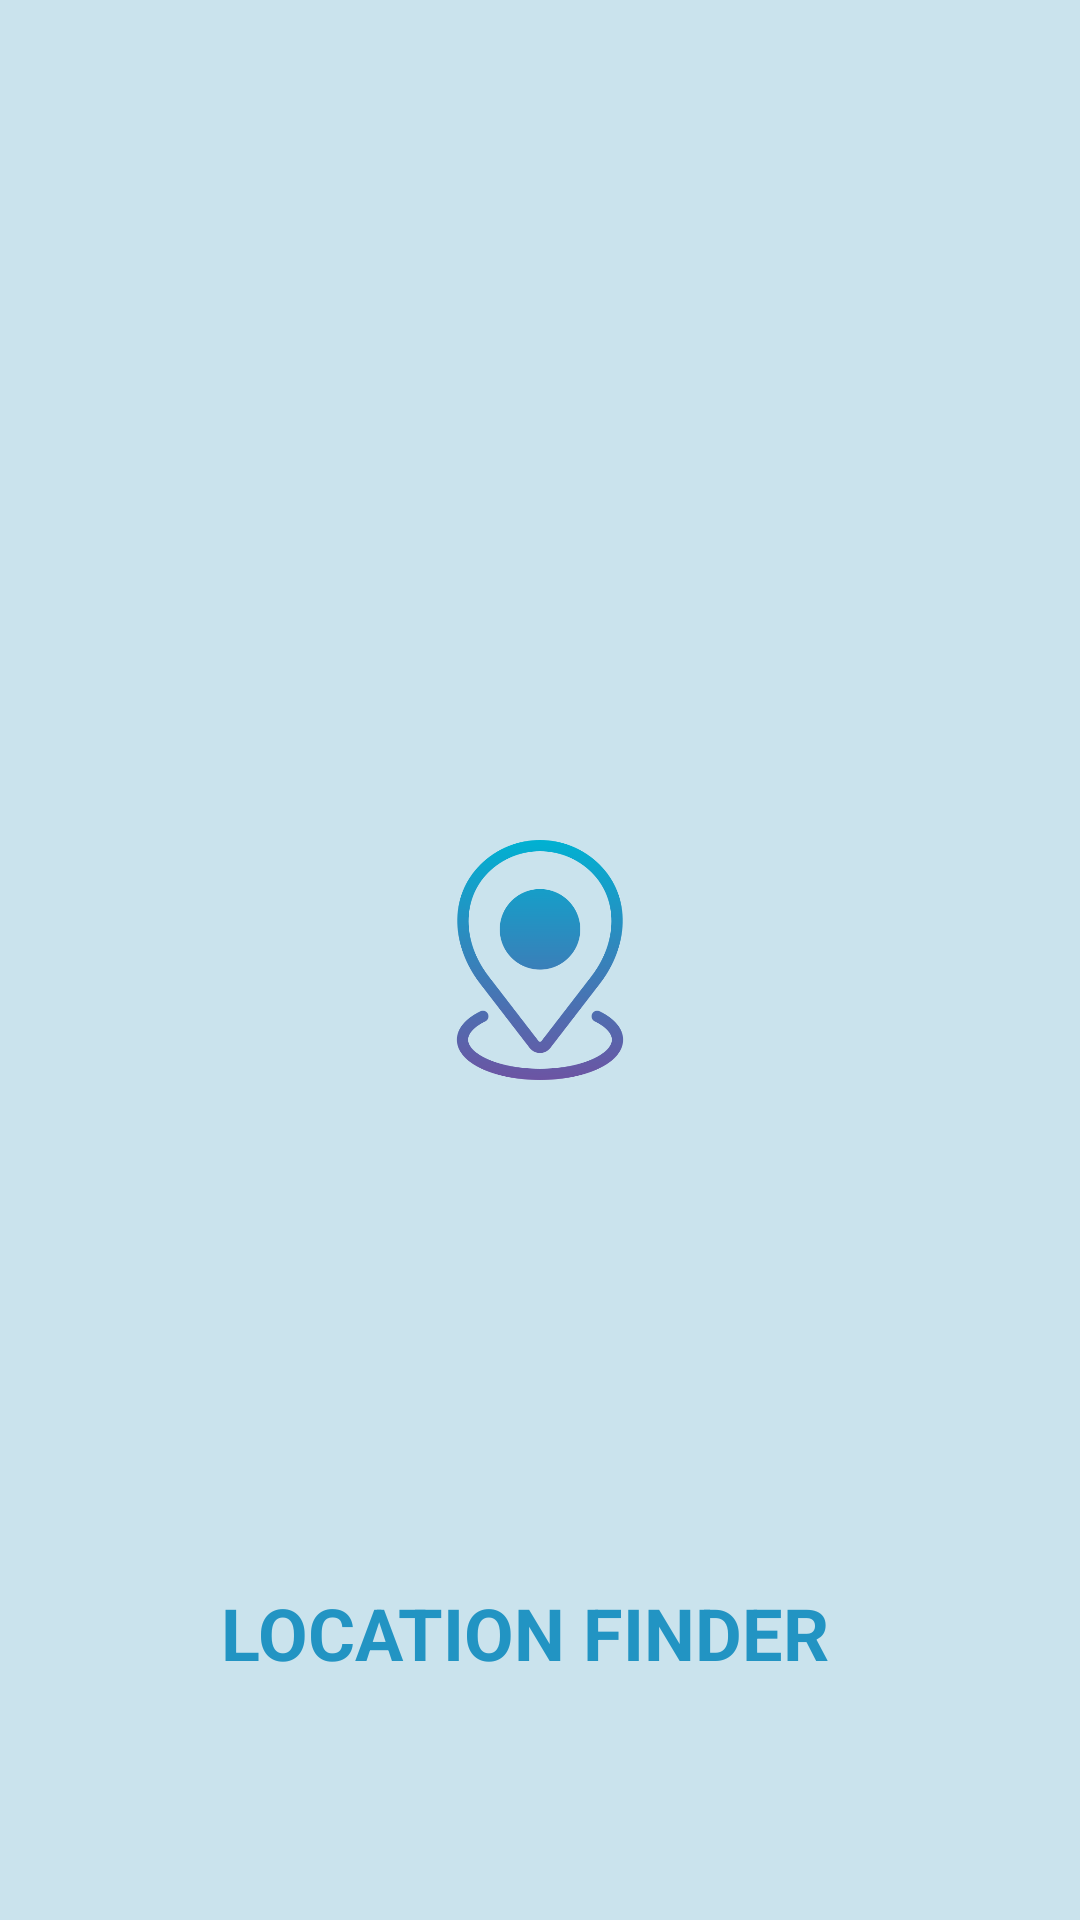

Screen size 1080px×1920px. Icon name, then its center in pixels as (x=x, y=y):
location: (x=540, y=960)
